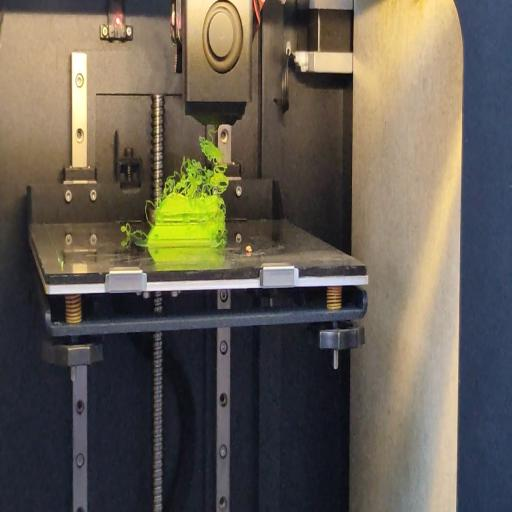spaghetti: (162, 128, 229, 202), (120, 224, 146, 240), (144, 198, 152, 228), (219, 234, 225, 252)
